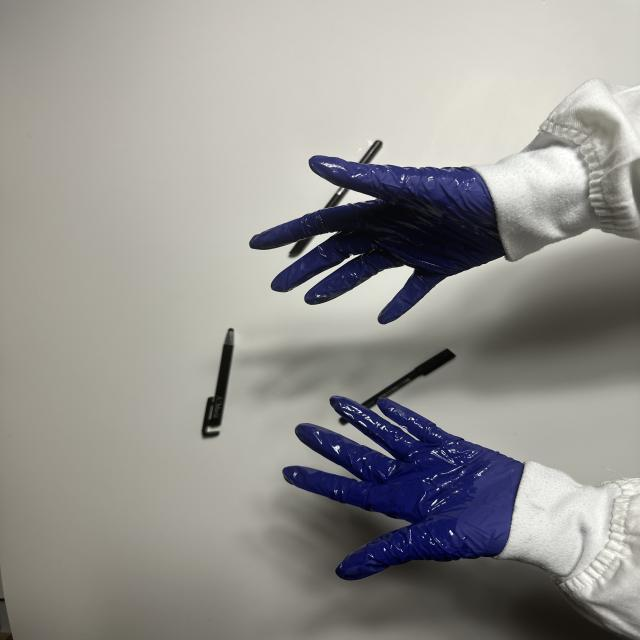gloves_contaminated: (283, 396, 524, 580), (250, 156, 505, 324)
